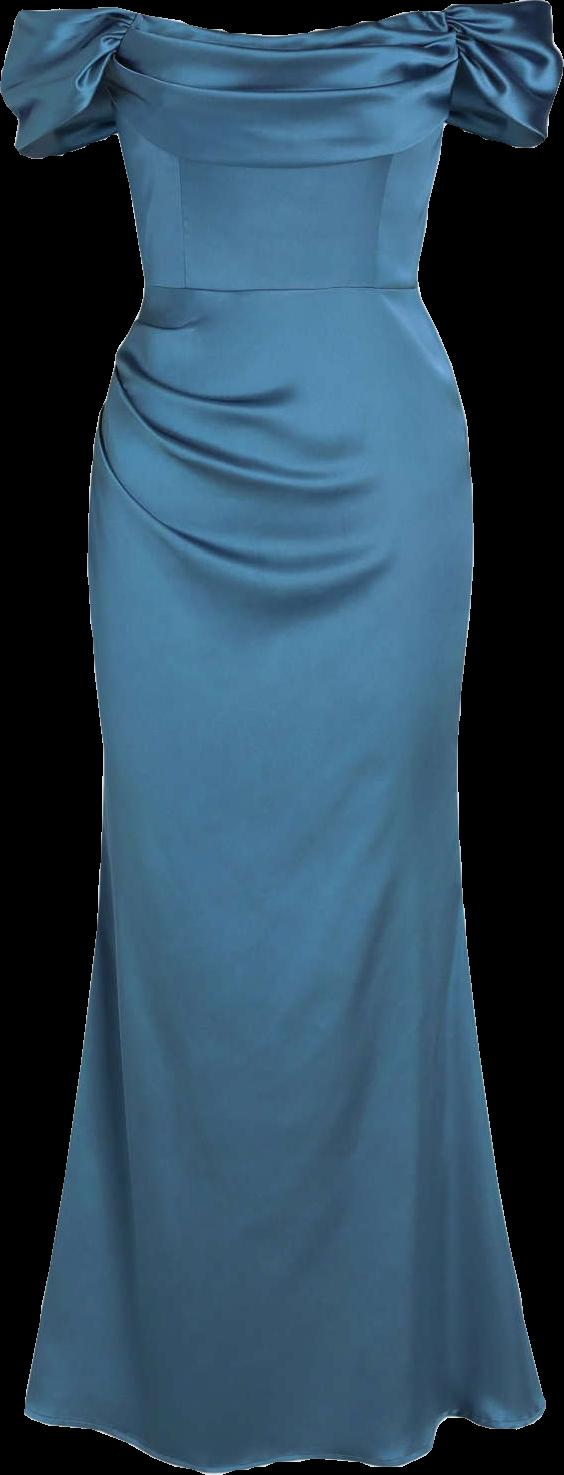Bodice: (107, 11, 463, 293)
Hemline: (17, 1398, 550, 1473)
Neckline: (116, 123, 449, 186), (133, 5, 442, 51)
Skirt: (24, 285, 545, 1471)
Sleeve: (0, 7, 142, 158), (441, 0, 562, 147)
Sleeveline: (17, 0, 142, 129), (436, 0, 550, 122)
Waistline: (140, 273, 427, 307)
